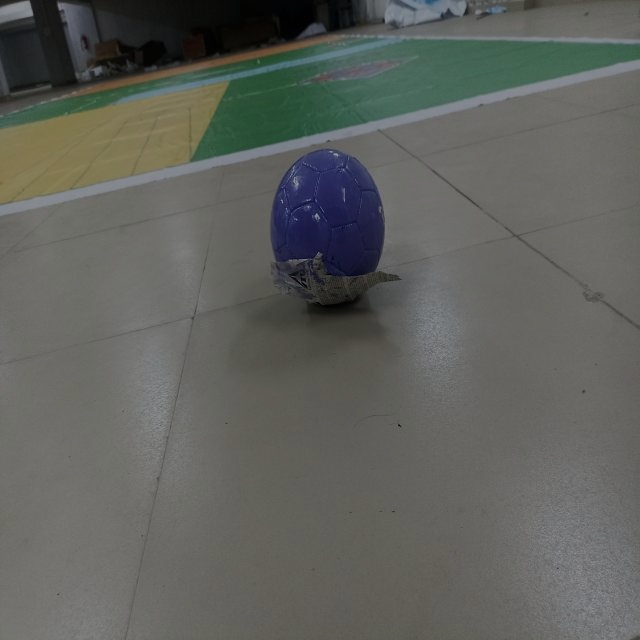purple_ball: (262, 139, 393, 326)
